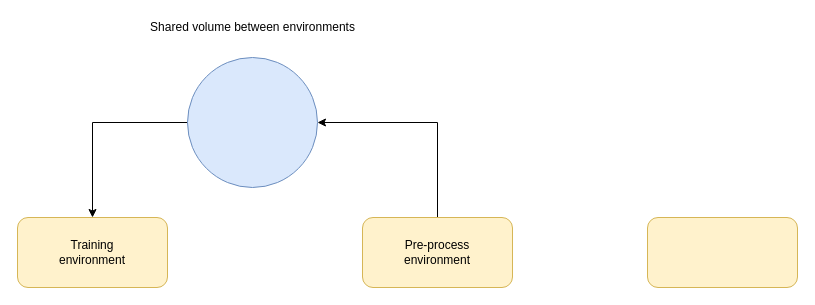
The diagram is 815 pixels wide and 305 high, and some of its shapes have lost their labels. The centre of each missing label's shape, as x and y in pixels:
"Final Dataset" belongs at [252,122].
"Inference API" belongs at [722,252].
